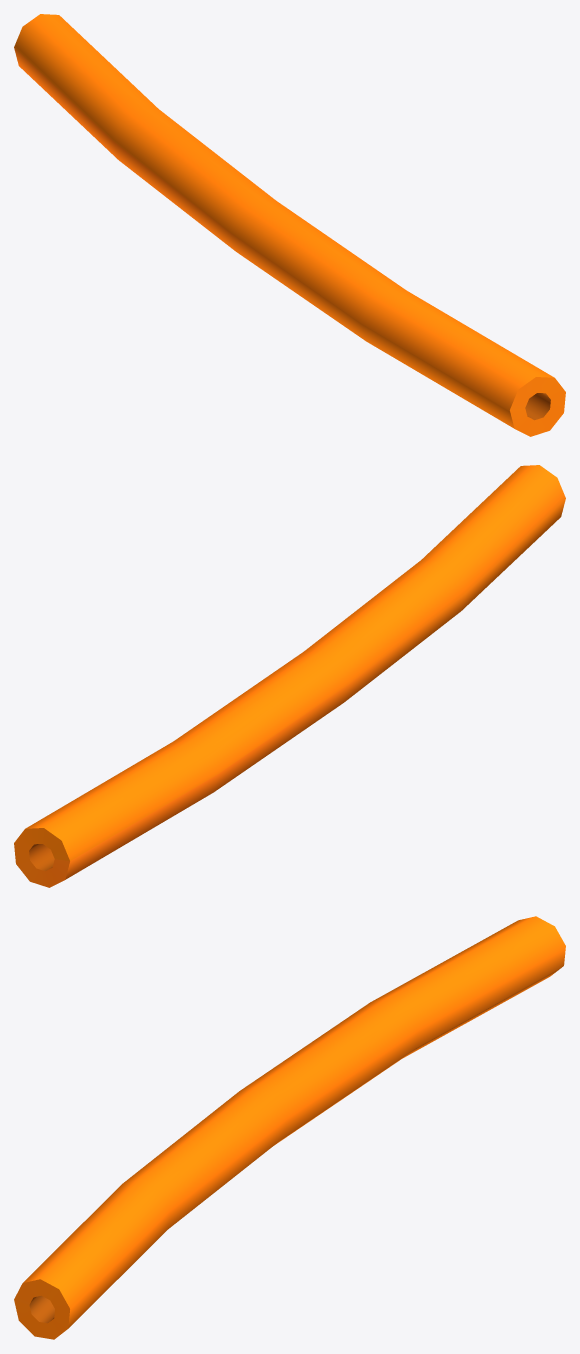
The model's file is PoolNoodleOrange.glb.
3 renders of one model, top to bottom at view 1: azimuth 30°, elevation 25°; view 2: azimuth 150°, elevation 25°; view 3: azimuth 330°, elevation 25°, orthographic.
Visible parts, largest first — view 1: PoolNoodleOrange; view 2: PoolNoodleOrange; view 3: PoolNoodleOrange.
Part boxes in pixels (x1,y1,x2,y2): PoolNoodleOrange: (14,14,565,436); PoolNoodleOrange: (14,465,565,887); PoolNoodleOrange: (14,916,565,1339).
Size of the model in its own units: 0.2596 by 0.1766 by 2.56.
1 material, 1 textured.
